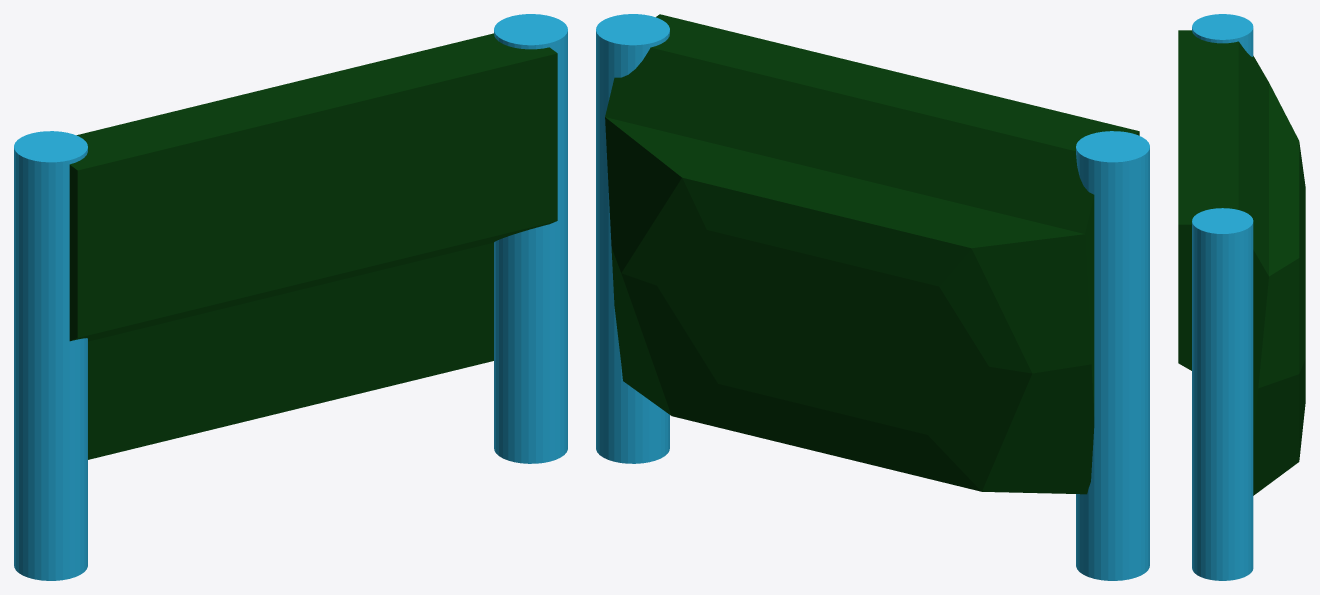
Rendered from Scanner.fbx.
3 views of the same model, side by side, from view 1: azimuth 30°, elevation 25°; view 2: azimuth 150°, elevation 25°; view 3: azimuth 270°, elevation 25° (orthographic). The views are drawn at different scales.
Visible parts, largest first — view 1: Body, RightCylinder, LeftCylinder; view 2: Body, RightCylinder, LeftCylinder; view 3: Body, LeftCylinder, RightCylinder.
Part boxes in pixels (x1,y1,x2,y2): Body: (69,33,557,459); RightCylinder: (14,131,87,580); LeftCylinder: (494,14,567,463); Body: (605,14,1139,494); RightCylinder: (1076,131,1149,580); LeftCylinder: (596,14,669,463); Body: (1178,30,1305,495); LeftCylinder: (1192,208,1253,580); RightCylinder: (1192,14,1253,56).
Size of the model in its own units: 680 by 500 by 166.
